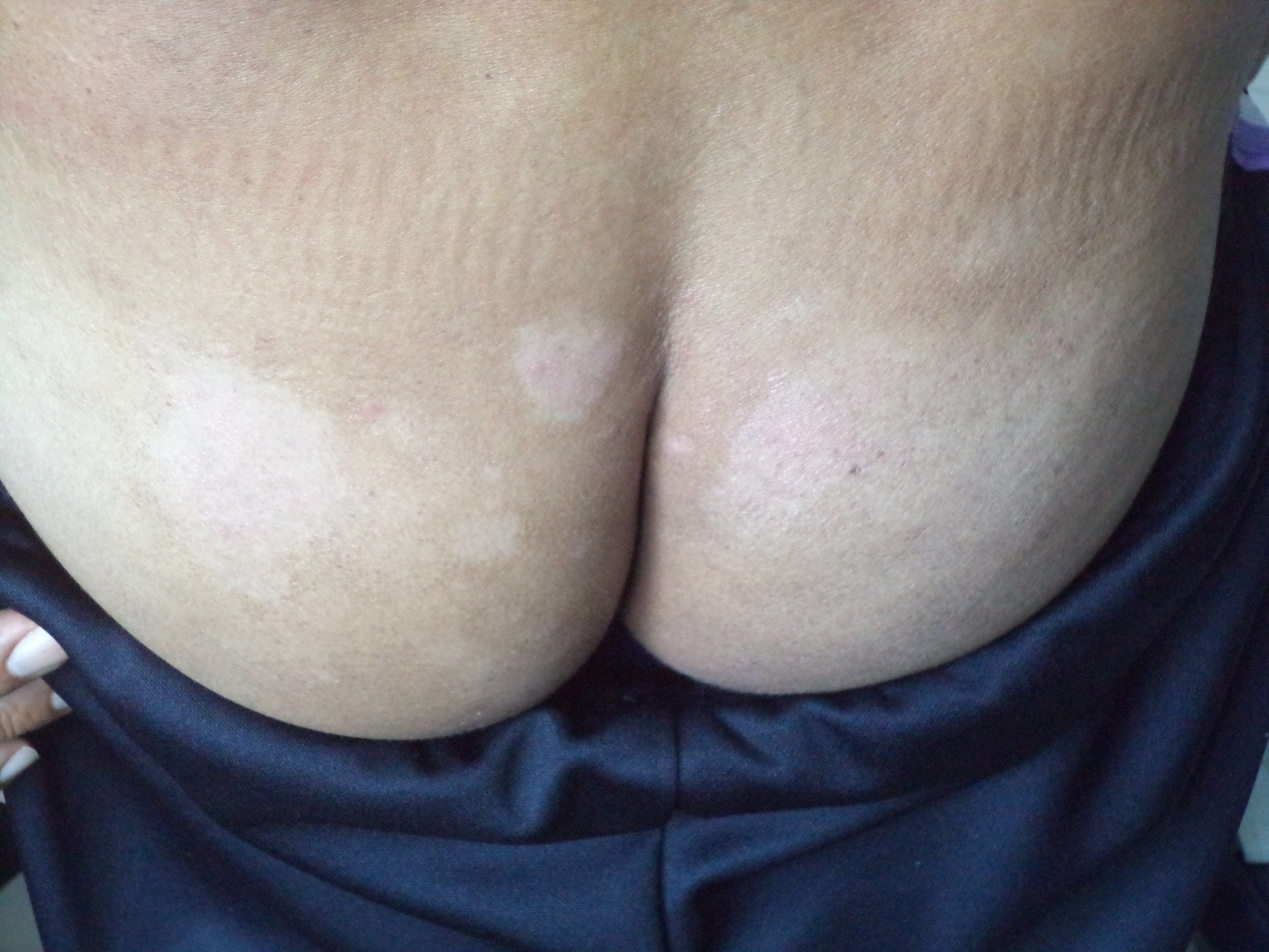Leprosy: (702, 278, 1112, 573), (128, 330, 360, 614), (501, 310, 634, 433), (442, 506, 537, 572)
